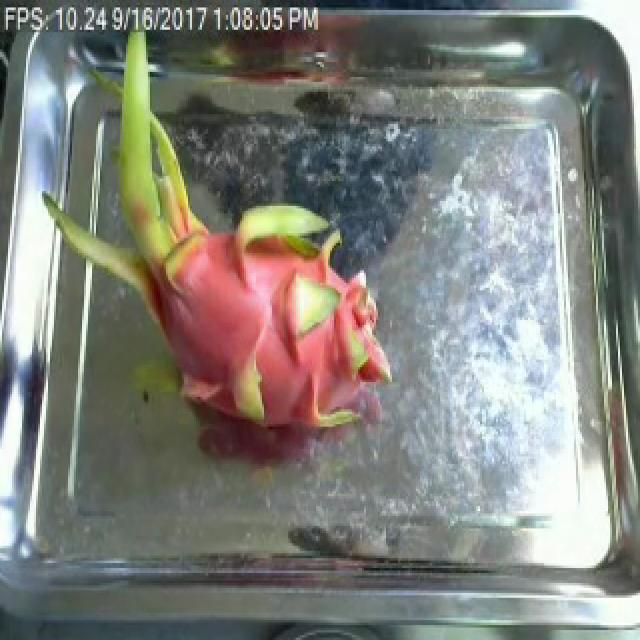fruit: (12, 72, 402, 486)
